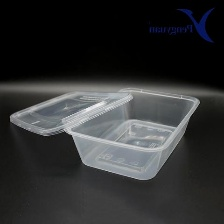plastic_box: (4, 78, 207, 185)
